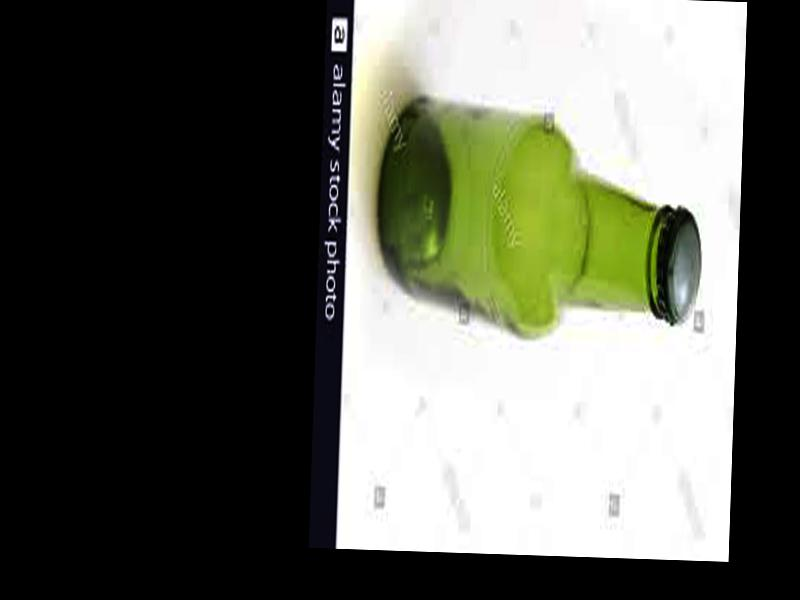Beer: (375, 97, 706, 326)
